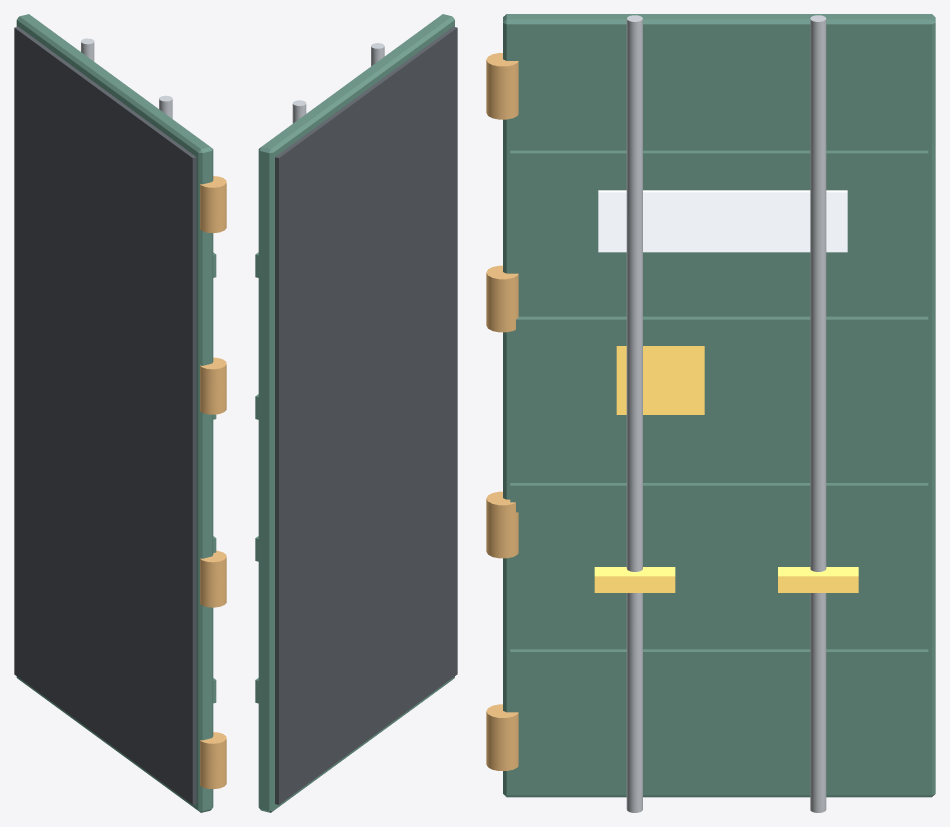
Rendered from bulk-container-door-l-v5-medium.glb.
3 renders of one model, left to right at view 1: azimuth 30°, elevation 25°; view 2: azimuth 150°, elevation 25°; view 3: azimuth 270°, elevation 25°, orthographic. The views are drawn at different scales.
Visible parts, largest first — view 1: bulk-container-door-l-v5-high.glb-v5_cr20_inner_dark, bulk-container-door-l-v5-high.glb-v5_cr20_green, bulk-container-door-l-v5-high.glb-v5_cr20_bottom_rust, bulk-container-door-l-v5-high.glb-v5_bulk_silver; view 2: bulk-container-door-l-v5-high.glb-v5_cr20_inner_dark, bulk-container-door-l-v5-high.glb-v5_cr20_green, bulk-container-door-l-v5-high.glb-v5_bulk_silver; view 3: bulk-container-door-l-v5-high.glb-v5_cr20_green, bulk-container-door-l-v5-high.glb-v5_bulk_silver, bulk-container-door-l-v5-high.glb-v5_cr20_white_mark, bulk-container-door-l-v5-high.glb-v5_tilter_yellow, bulk-container-door-l-v5-high.glb-v5_cr20_bottom_rust.
Part boxes in pixels (x1=…): bulk-container-door-l-v5-high.glb-v5_cr20_inner_dark: x1=14, y1=26, x2=196, y2=804; bulk-container-door-l-v5-high.glb-v5_cr20_green: x1=16, y1=14, x2=216, y2=812; bulk-container-door-l-v5-high.glb-v5_cr20_bottom_rust: x1=200, y1=176, x2=226, y2=789; bulk-container-door-l-v5-high.glb-v5_bulk_silver: x1=81, y1=38, x2=172, y2=118; bulk-container-door-l-v5-high.glb-v5_cr20_inner_dark: x1=275, y1=26, x2=457, y2=804; bulk-container-door-l-v5-high.glb-v5_cr20_green: x1=255, y1=14, x2=454, y2=812; bulk-container-door-l-v5-high.glb-v5_bulk_silver: x1=292, y1=43, x2=384, y2=123; bulk-container-door-l-v5-high.glb-v5_cr20_green: x1=503, y1=14, x2=935, y2=797; bulk-container-door-l-v5-high.glb-v5_bulk_silver: x1=626, y1=15, x2=826, y2=812; bulk-container-door-l-v5-high.glb-v5_cr20_white_mark: x1=598, y1=190, x2=847, y2=252; bulk-container-door-l-v5-high.glb-v5_tilter_yellow: x1=594, y1=346, x2=858, y2=592; bulk-container-door-l-v5-high.glb-v5_cr20_bottom_rust: x1=486, y1=53, x2=518, y2=770.
Size of the model in its own units: 0.1475 by 2.38 by 1.23.
